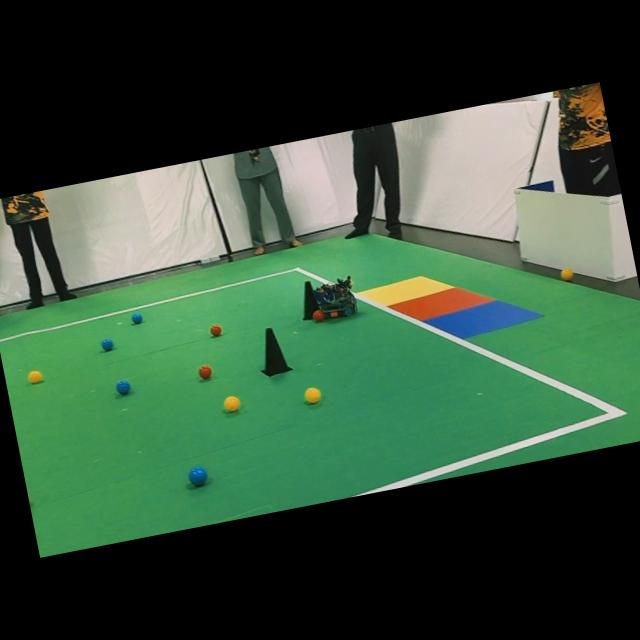ball: (188, 467, 208, 486), (224, 395, 241, 413), (305, 387, 321, 404), (116, 380, 132, 394), (28, 371, 43, 385), (210, 323, 223, 337), (199, 365, 212, 379), (561, 268, 574, 281), (131, 312, 144, 324), (313, 310, 325, 322), (102, 338, 113, 351)
goal: (426, 300, 542, 338), (390, 287, 494, 321), (359, 276, 455, 306)
